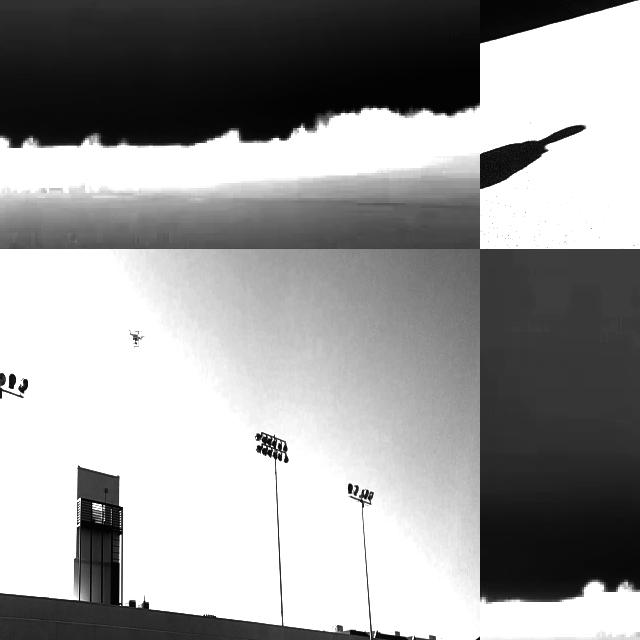drone: (127, 324, 143, 349)
